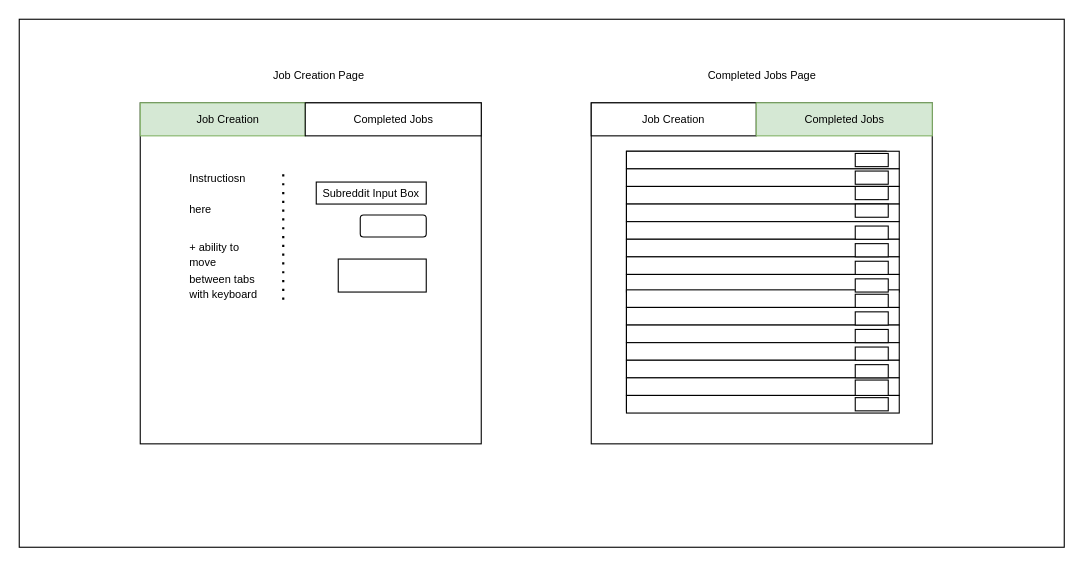
The diagram is 1084 pixels wide and 567 high, and some of its shapes have lost their labels. The centre of each missing label's shape, as x and y in pixels:
"# Posts" belongs at point 392,225.
"Submit Job" belongs at point 381,275.
